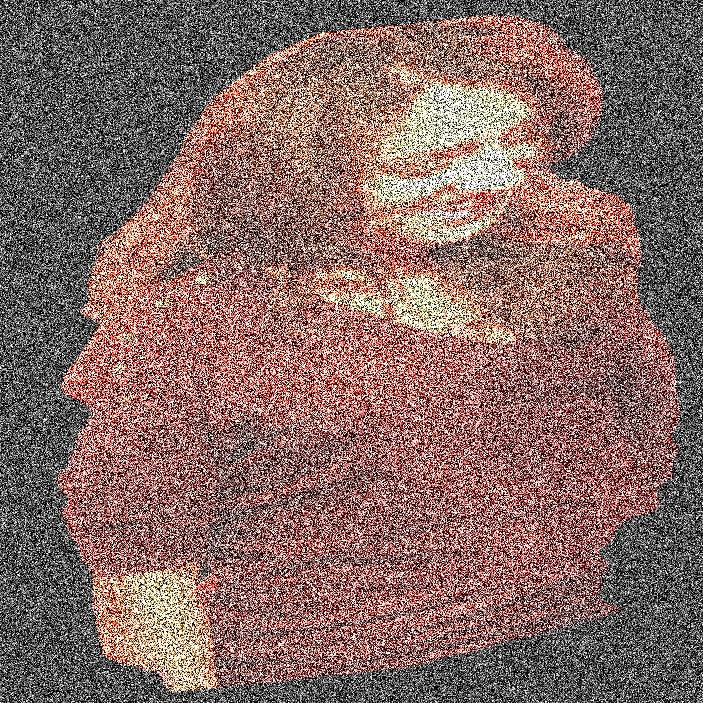Pessoa: (97, 0, 634, 702)
